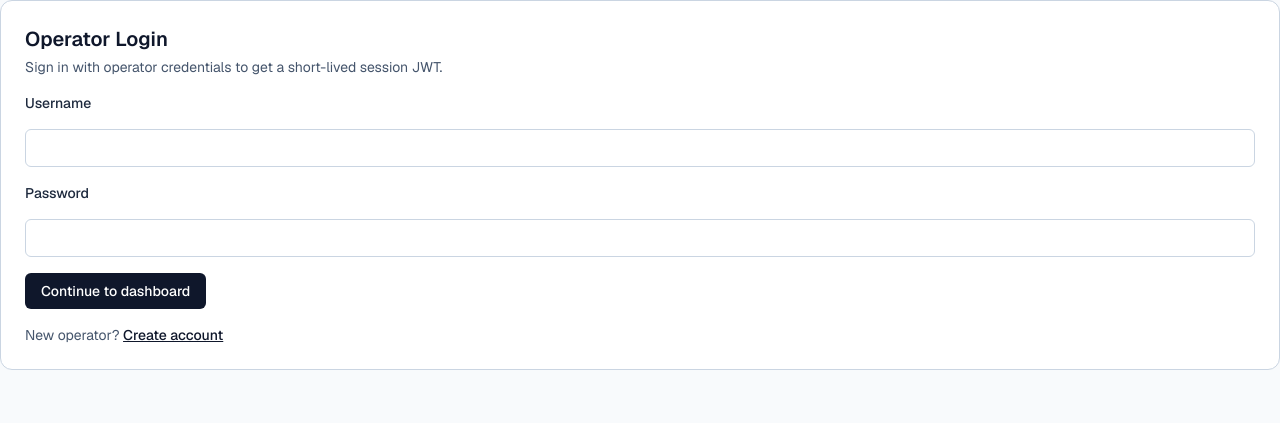
Test case: auth flow › shows invalid credential message on 401
Type "operator" into the field labelled "Username" at (640, 148), box [25, 129, 1255, 167]
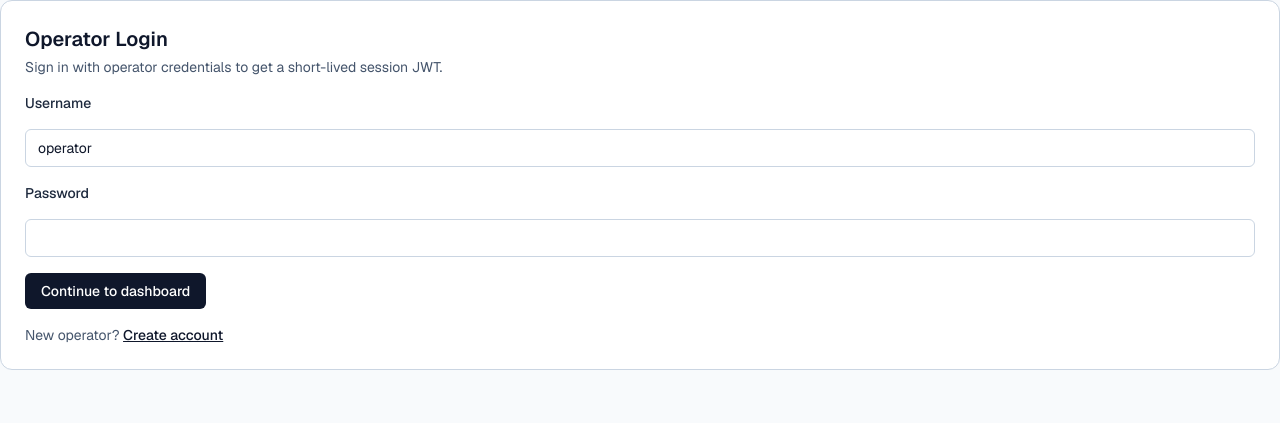
Type "wrong-pass" into the password field labelled "Password" at (640, 238), box [25, 219, 1255, 257]
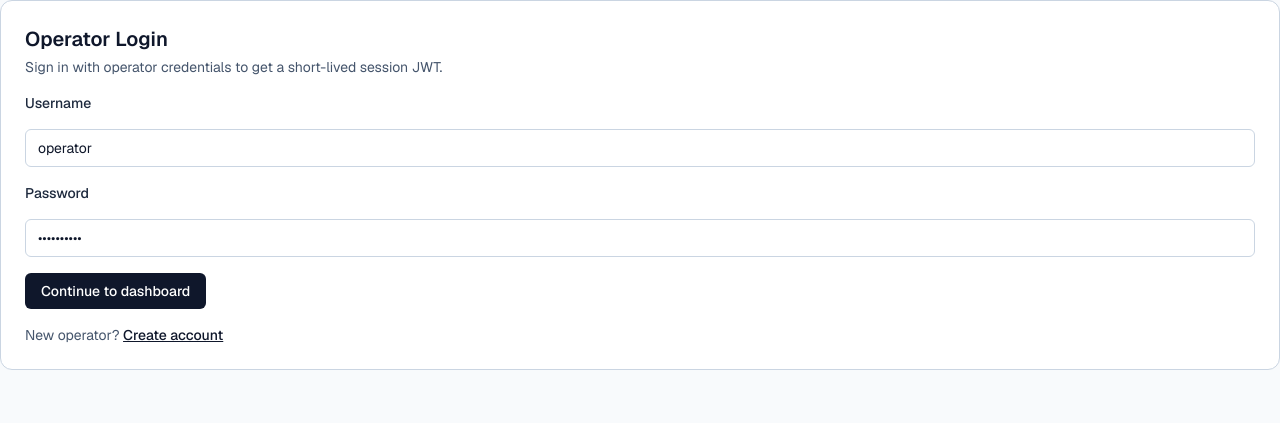
Click the button "Continue to dashboard" at (116, 291), box [25, 273, 206, 309]
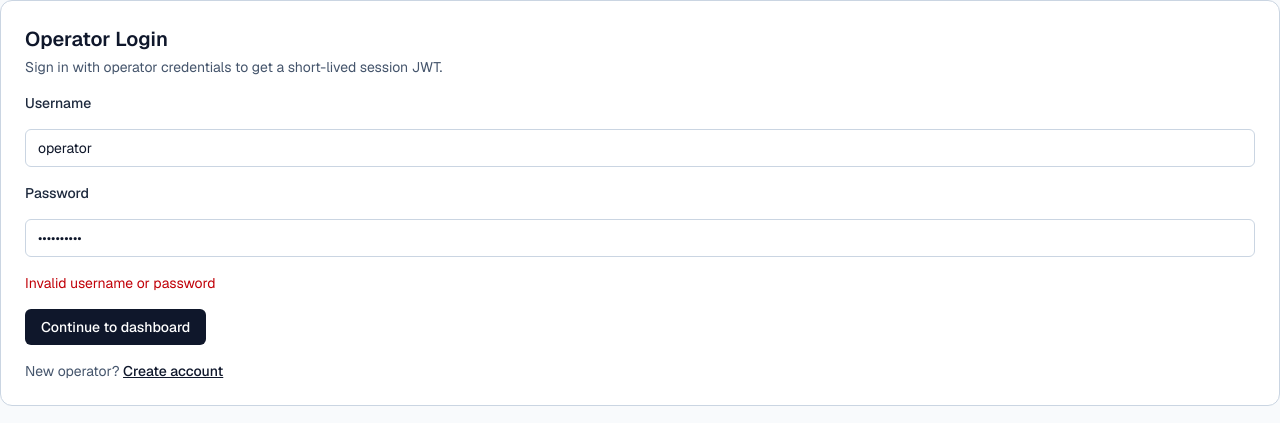
Check: the text "Invalid username or password" is shown, box [25, 274, 216, 292]
